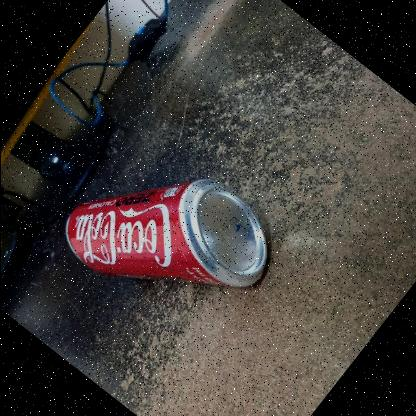Can: (62, 174, 280, 286)
